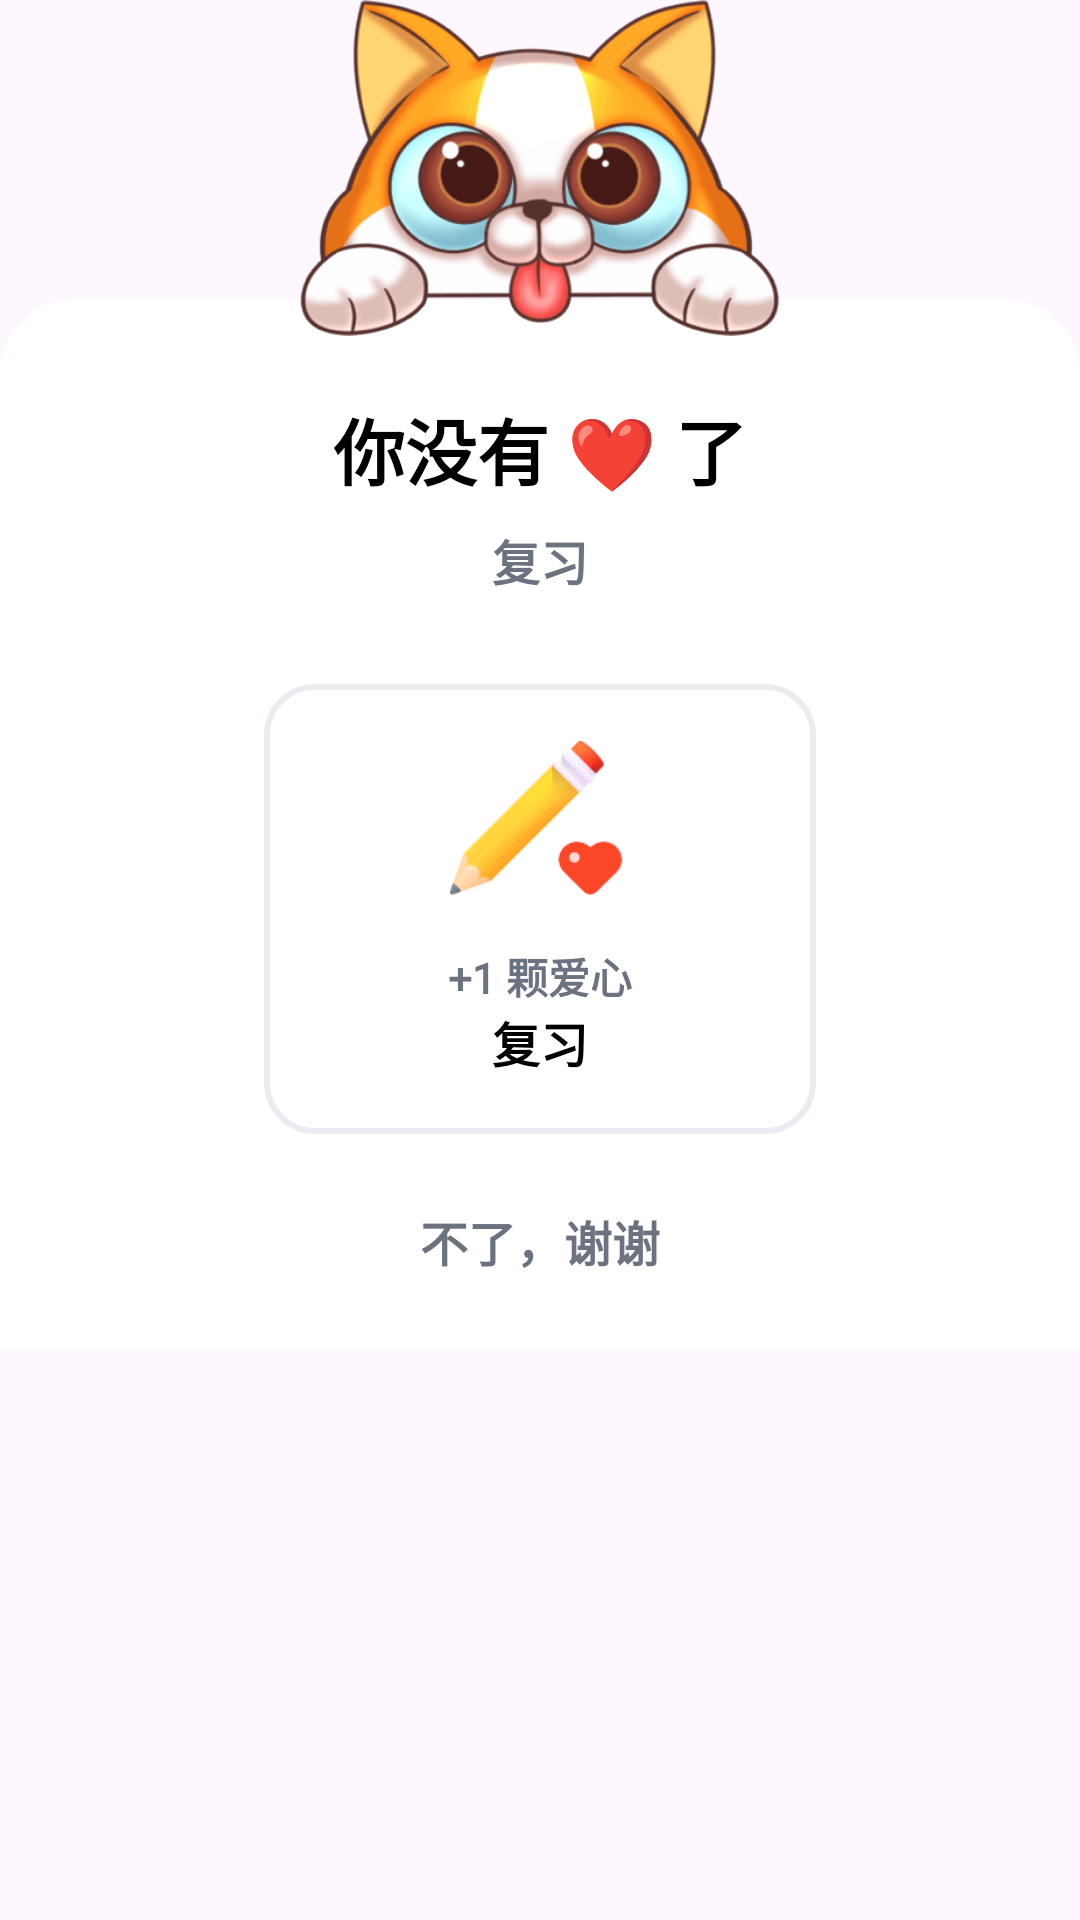

Named icons in this screenshot (1080 x 1920) and their bounding boxes, [left=x1, top=y1, right=x2, bottom=y2]:
pic review: [left=450, top=741, right=623, bottom=895]
